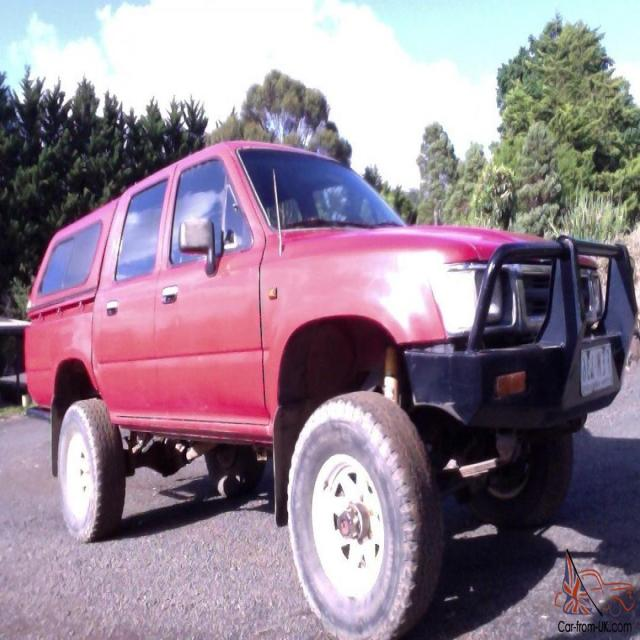light_vehicle: (18, 130, 637, 634)
